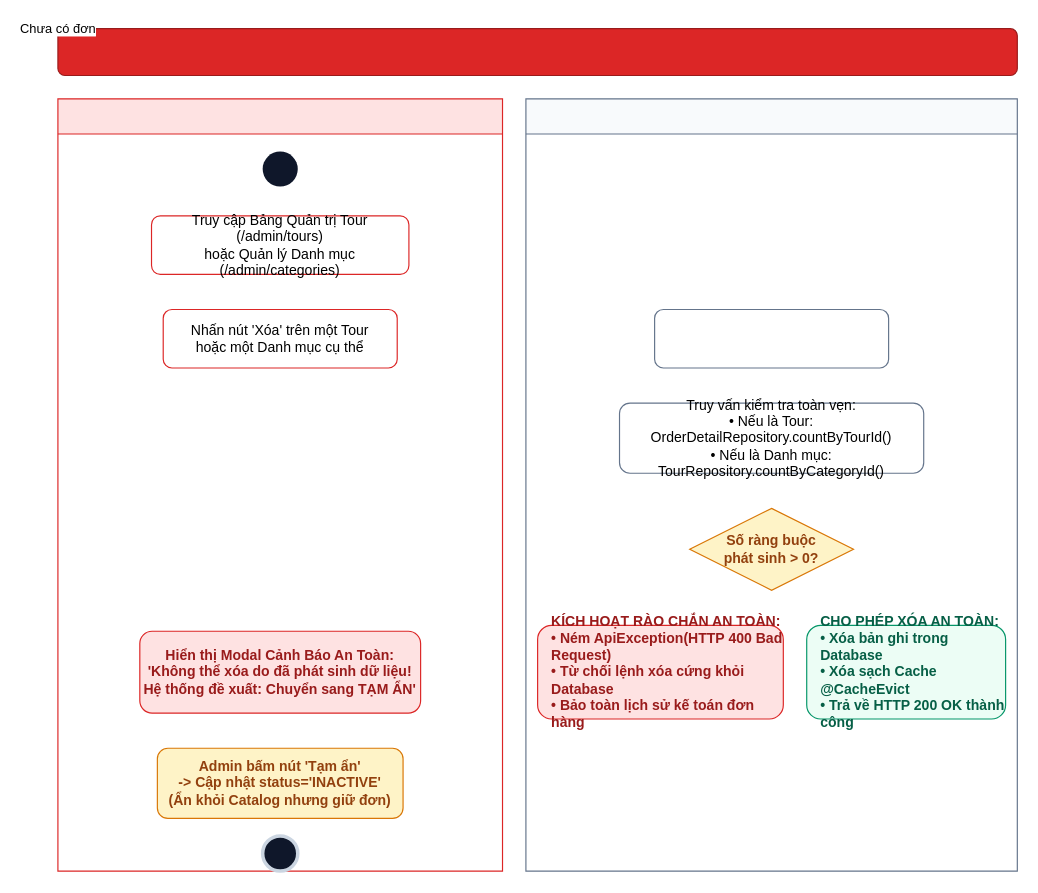
Image size: 1038x893. Some labels were removed from this diagram. Each missing label, with the box of its shape:
HỆ THỐNG KIỂM SOÁT TÍNH TOÀN VẸN (TOUR SERVICE & DB): (525, 98, 1017, 871)
QUẢN TRỊ VIÊN HỆ THỐNG (ADMINISTRATOR): (57, 98, 503, 871)
SƠ ĐỒ ACTIVITY: CƠ CHẾ KIỂM SOÁT XÓA AN TOÀN SAFE DELETE (UC03): (57, 27, 1017, 75)
Tiếp nhận DELETE Request Kiểm tra đối tượng cần xóa: (653, 308, 889, 368)
